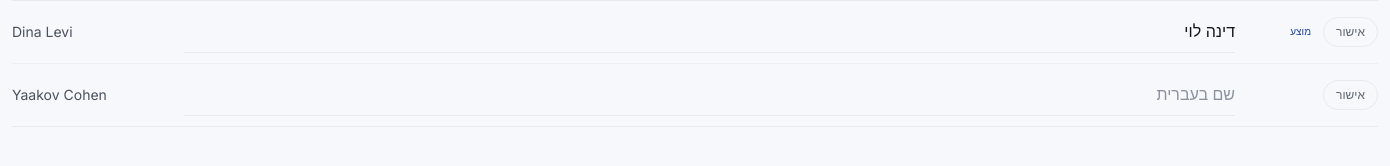
Test: /admin/names — a refused save › clears the error once the save succeeds
Click the button "אישור" next to "מוצע" at [1350, 32], box [1323, 17, 1378, 47]
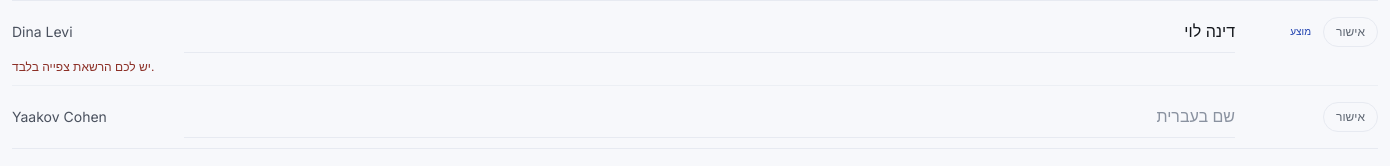
Result: the text "יש לכם הרשאת צפייה בלבד." is shown at [12, 59, 154, 74]
Click the button "אישור" next to "מוצע" at [1350, 32], box [1323, 17, 1378, 47]
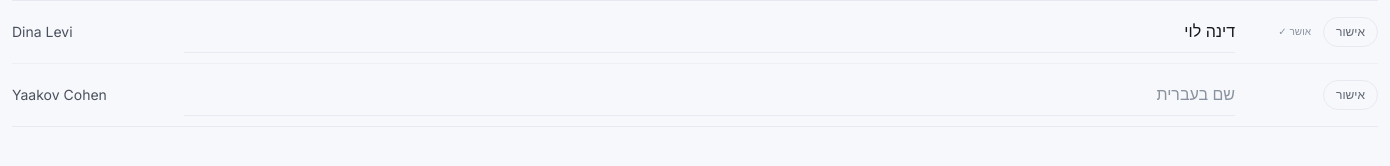
Result: the text "יש לכם הרשאת צפייה בלבד." is gone
Result: the text "✓ אושר" is shown at [1278, 25, 1311, 37]
